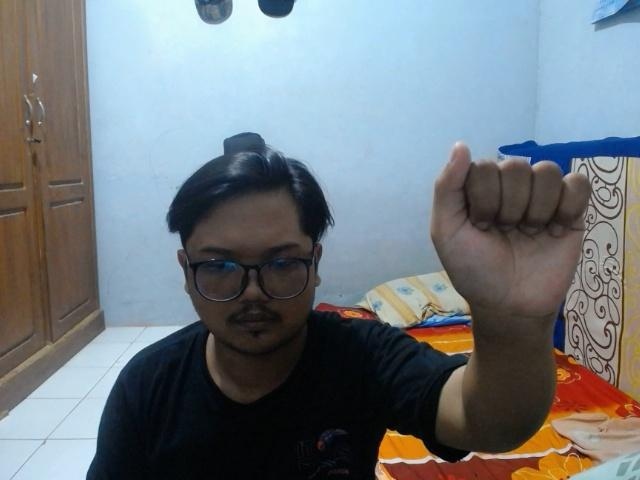Grab: (424, 133, 599, 329)
